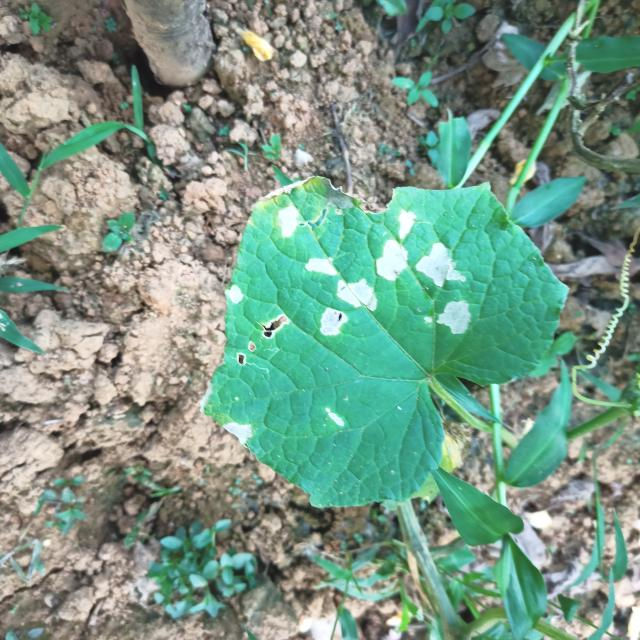disease_cucumber: (373, 209, 418, 284), (320, 278, 378, 336), (235, 312, 290, 370), (414, 242, 468, 288), (423, 299, 472, 336), (223, 419, 254, 446), (278, 203, 301, 239), (304, 255, 339, 278), (322, 407, 348, 432), (226, 284, 245, 305)
